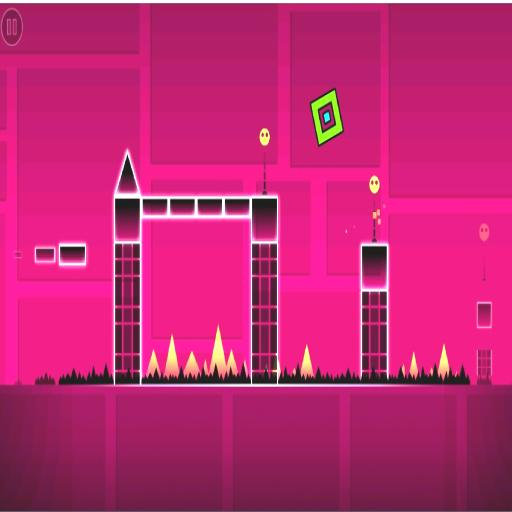block: (110, 192, 280, 394), (356, 242, 390, 378), (57, 244, 88, 266), (477, 346, 492, 391), (476, 300, 494, 333), (33, 247, 55, 262), (13, 250, 22, 258)
player: (311, 89, 343, 145)
spike: (115, 152, 138, 195), (209, 325, 226, 377), (164, 335, 178, 377), (300, 345, 312, 377), (183, 352, 198, 377), (437, 344, 448, 378), (146, 351, 159, 376), (226, 351, 236, 375), (409, 354, 417, 378), (202, 360, 208, 375), (275, 356, 279, 377), (243, 361, 247, 376), (401, 364, 404, 377), (292, 368, 296, 376), (429, 368, 432, 376), (454, 371, 457, 377)
